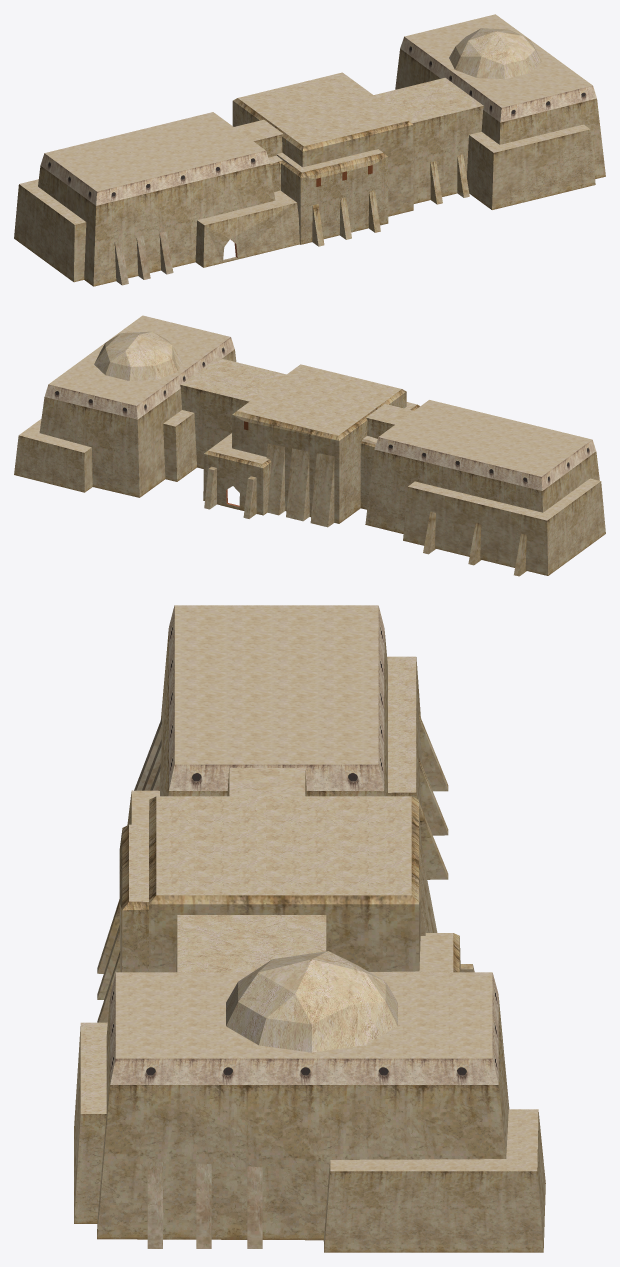
The model's file is thm_tato_block_bldg_64x32_s02_r0_exterior_mesh_exterior_l2.fbx.
3 views of the same model, one above another, from view 1: azimuth 30°, elevation 25°; view 2: azimuth 150°, elevation 25°; view 3: azimuth 270°, elevation 25° (orthographic). The views are drawn at different scales.
Parts seen in each view (by area): view 1: mesh_node; view 2: mesh_node; view 3: mesh_node.
Boxes of the visible parts, x1,y1,x2,y2 form: mesh_node: [14, 14, 605, 286]; mesh_node: [14, 315, 605, 576]; mesh_node: [74, 605, 545, 1252].
Size of the model in its own units: 77.79 by 17.03 by 31.51.
